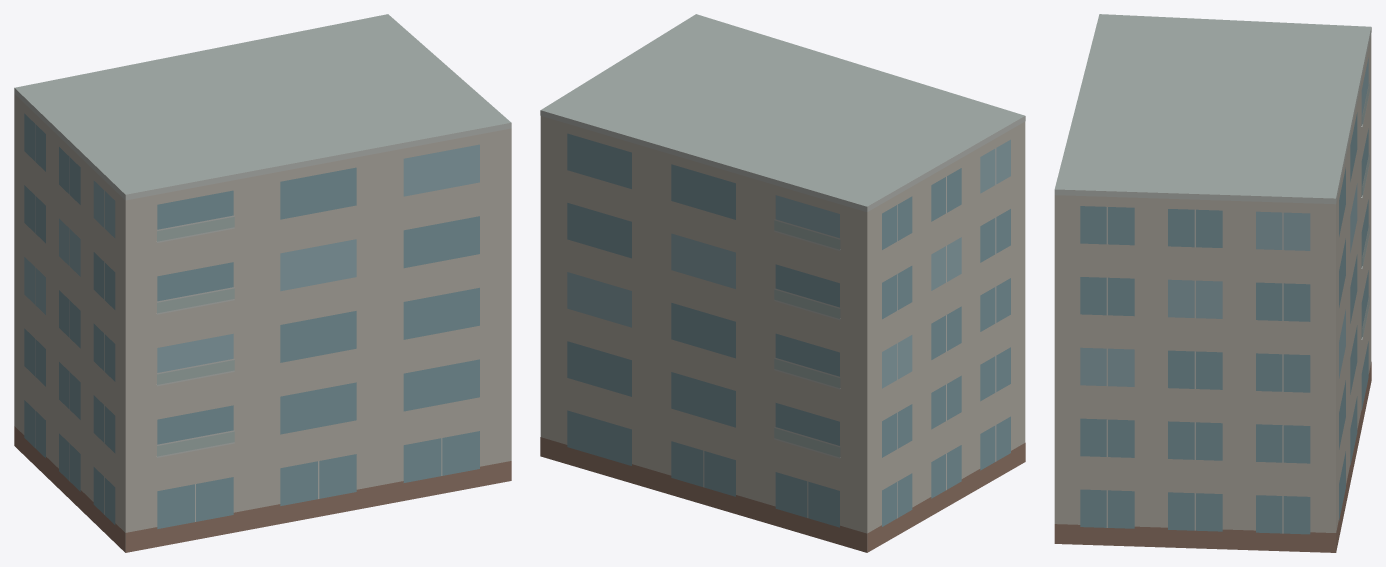
The model's file is residential-cb350b3f-698a-454f-a72e-adfb6f73b609.glb.
3 renders of one model, left to right at view 1: azimuth 30°, elevation 25°; view 2: azimuth 150°, elevation 25°; view 3: azimuth 270°, elevation 25°, orthographic. The views are drawn at different scales.
Parts seen in each view (by area): view 1: residential-cb350b3f-698a-454f-a72e-adfb6f73b609.tmp; view 2: residential-cb350b3f-698a-454f-a72e-adfb6f73b609.tmp; view 3: residential-cb350b3f-698a-454f-a72e-adfb6f73b609.tmp.
Part boxes in pixels (<box>): residential-cb350b3f-698a-454f-a72e-adfb6f73b609.tmp: <box>14,14,511,552</box>; residential-cb350b3f-698a-454f-a72e-adfb6f73b609.tmp: <box>540,14,1025,552</box>; residential-cb350b3f-698a-454f-a72e-adfb6f73b609.tmp: <box>1054,14,1371,552</box>.
Bounding box in the file's own units: 17.04 × 15.25 × 12.37.
